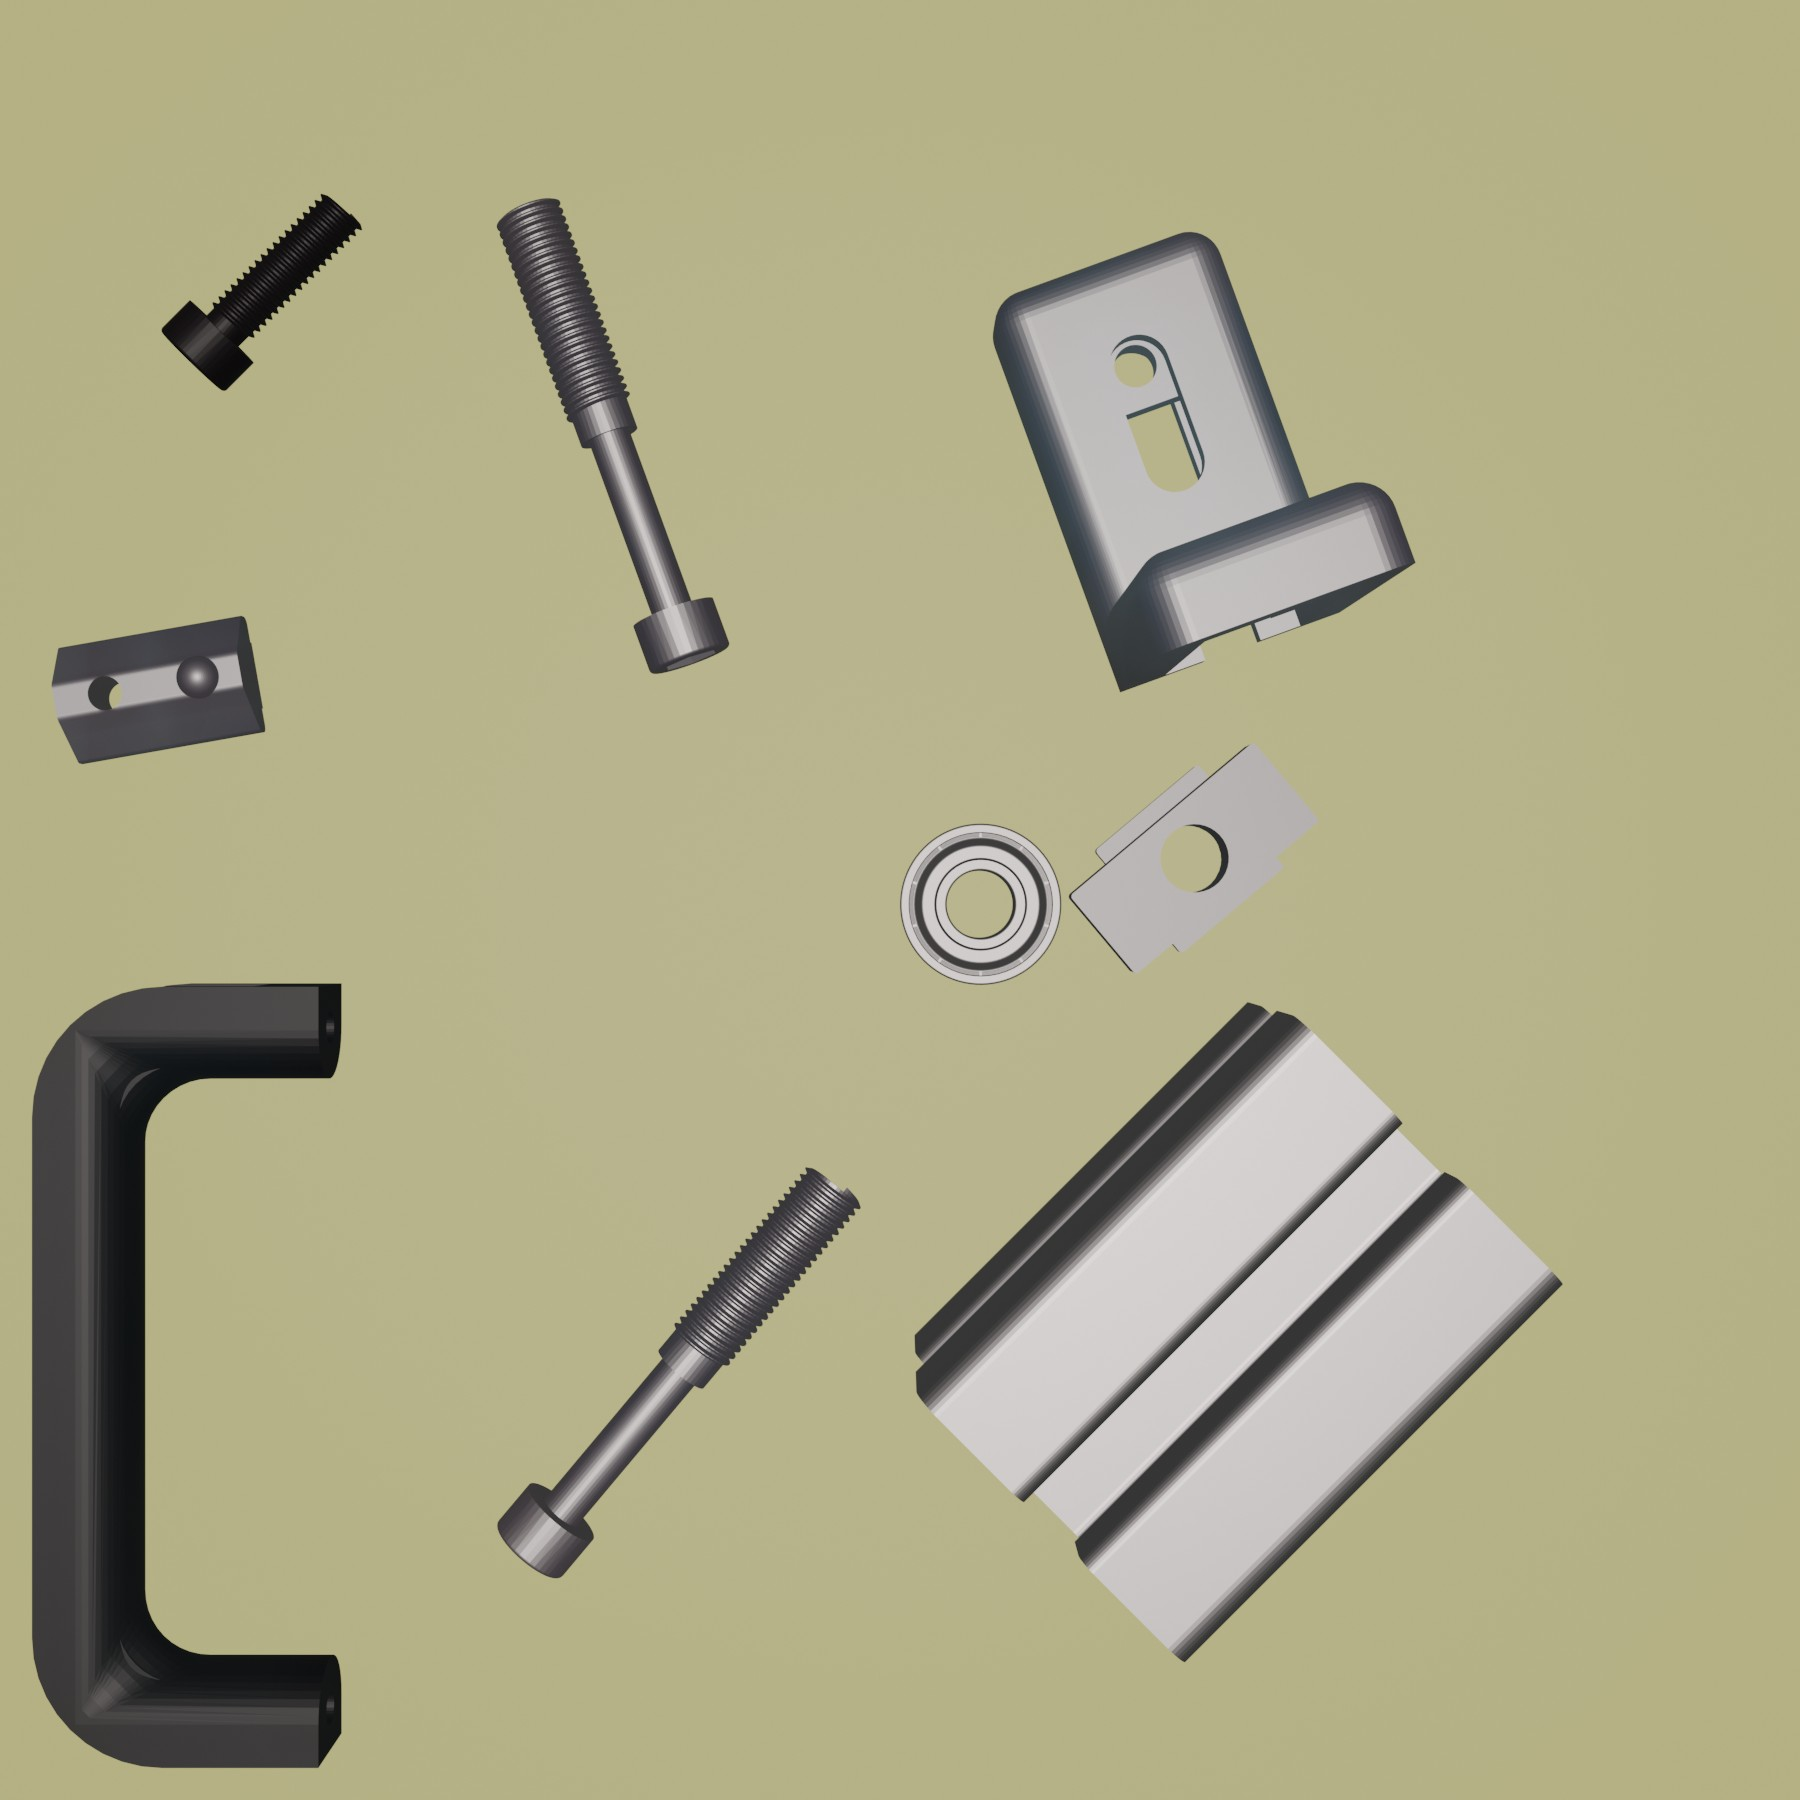Aluminium Extension: (912, 1001, 1564, 1665)
Ball Bearing: (897, 824, 1062, 987)
Multiwinkel: (989, 231, 1419, 696)
Pull Handle: (26, 977, 346, 1772)
Shoulder Socket Head Cap Screw: (498, 1160, 860, 1581), (498, 196, 729, 676)
Socket Head Cap Screw: (162, 191, 368, 392)
T Nut Square: (1066, 742, 1319, 976)
T Spring Nut: (51, 613, 269, 768)
